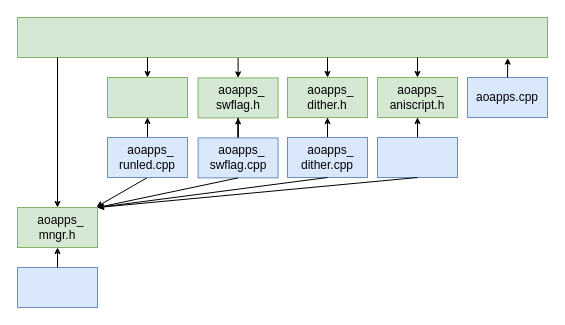
This 565x325 diagram has some shape labels left out. Each missing label, with the centre of its shape:
"aoapps.h" belongs at point 282,37.
"aoapps_ aniscript.cpp" belongs at point 417,157.
"aoapps_ mngr.cpp" belongs at point 57,287.
"aoapps_ runled.h" belongs at point 147,97.
